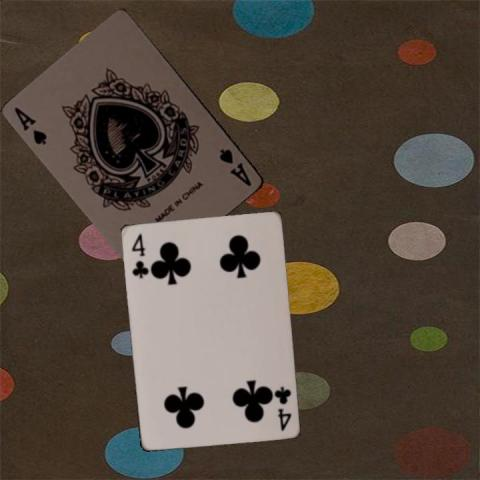4c: (270, 383, 292, 432), (128, 231, 149, 280)
As: (11, 103, 49, 147), (216, 145, 253, 188)
